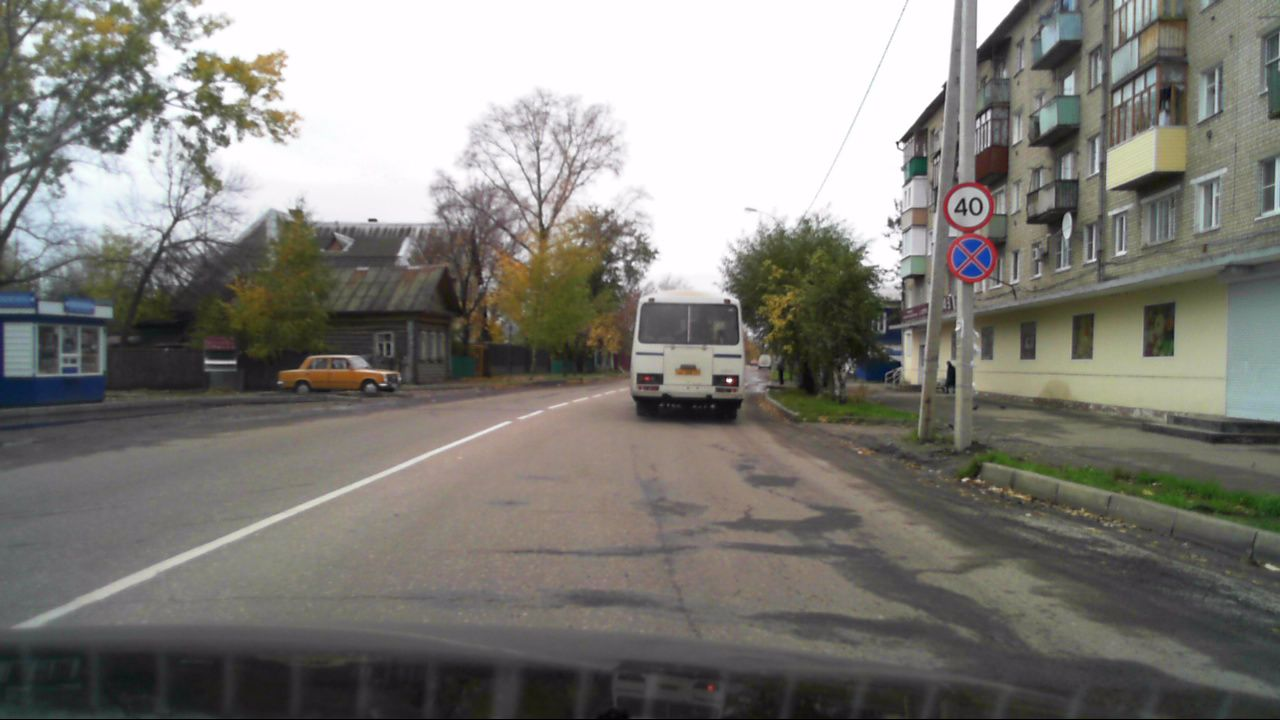No Parking: (946, 232, 997, 282)
speed_warning_40: (942, 180, 996, 233)
